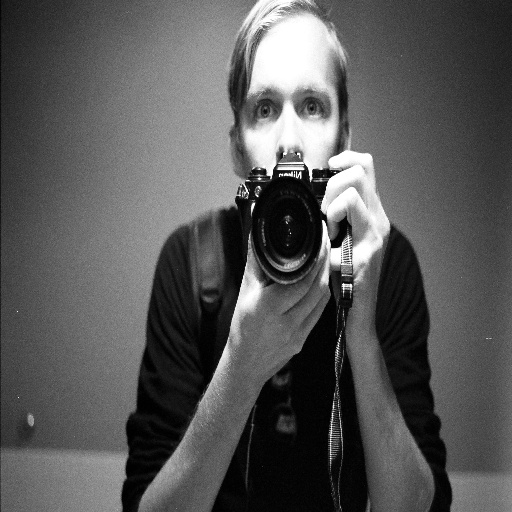hand: (228, 201, 332, 384), (327, 139, 399, 290)
